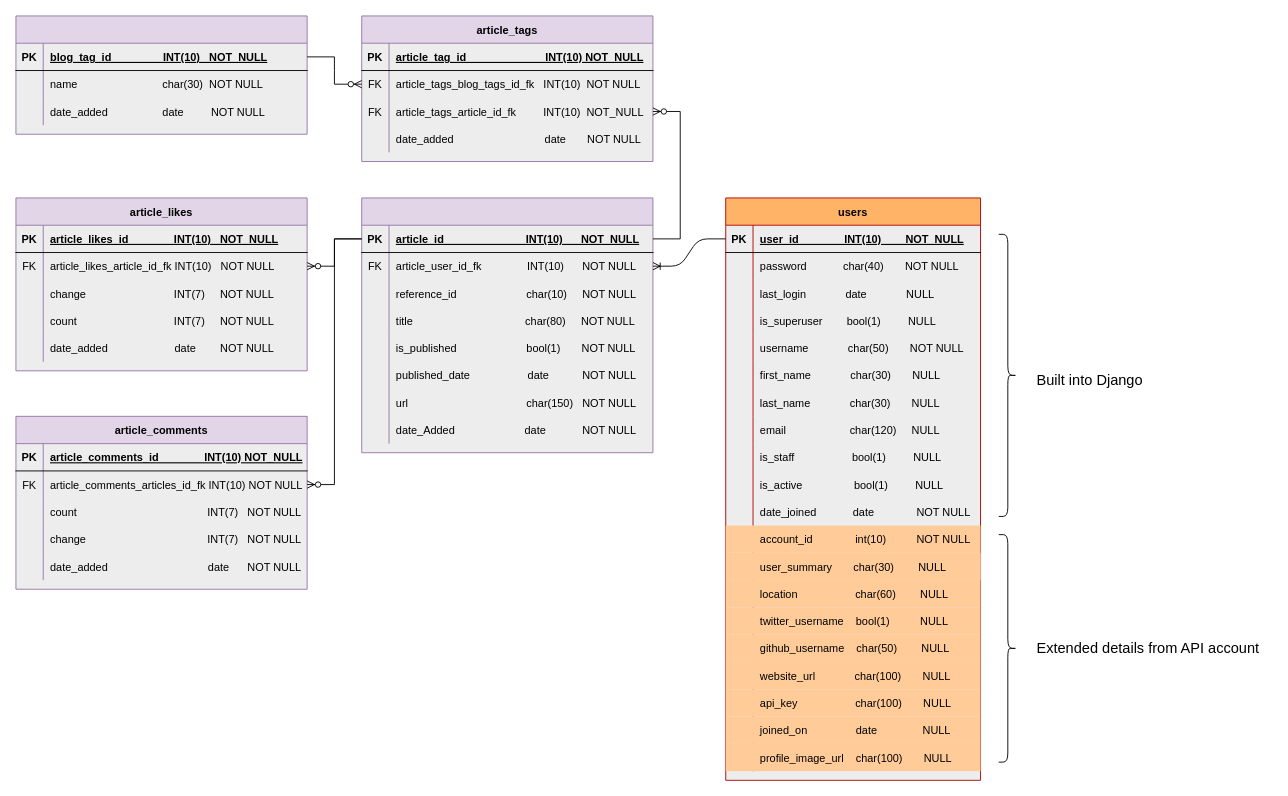
Image size: 1288x796. Some labels were removed from this diagram. Here are the shapes that lost their labels. From the top down, the box of each, then its label:
(15, 15, 307, 134): tags
(361, 197, 653, 453): articles
